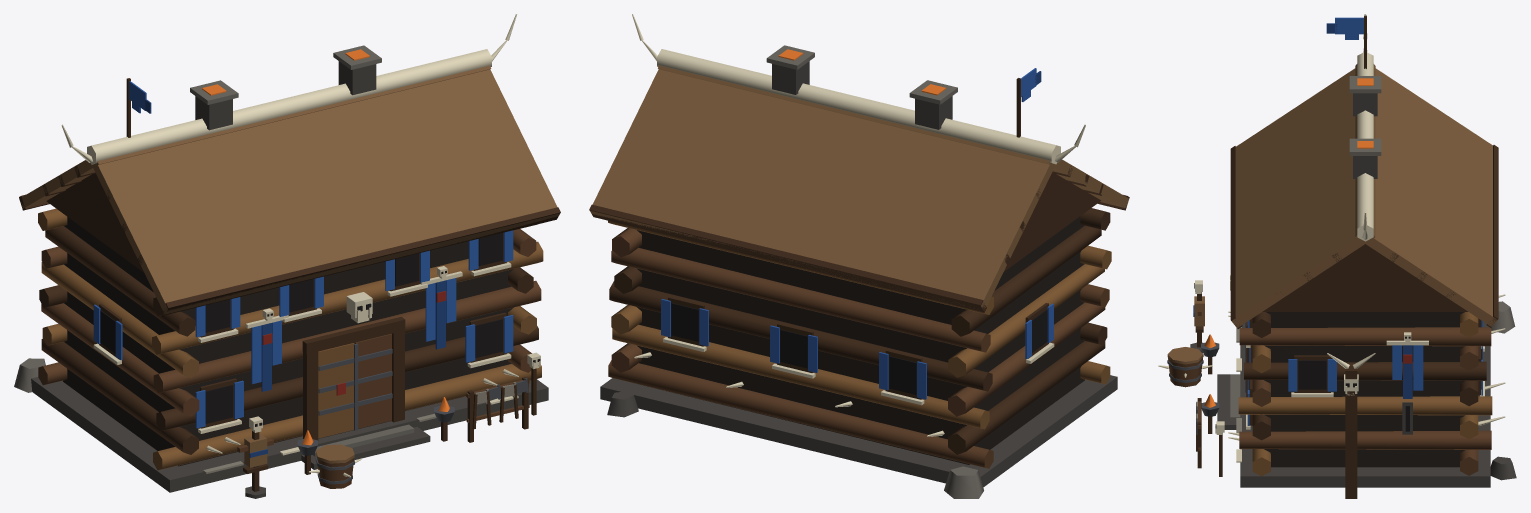
File: orc-barracks.glb
The picture shows the model from 3 angles, left to right: view 1: azimuth 30°, elevation 25°; view 2: azimuth 150°, elevation 25°; view 3: azimuth 270°, elevation 25°; orthographic projection. The views are drawn at different scales.
Visible parts, largest first — view 1: orc-barracks; view 2: orc-barracks; view 3: orc-barracks.
Part boxes in pixels (<box>): orc-barracks: <box>14,14,560,498</box>; orc-barracks: <box>589,14,1129,498</box>; orc-barracks: <box>1158,14,1516,498</box>.
Size of the model in its own units: 13.35 by 9.96 by 10.16.
Materials: 1 (1 with a texture image).
